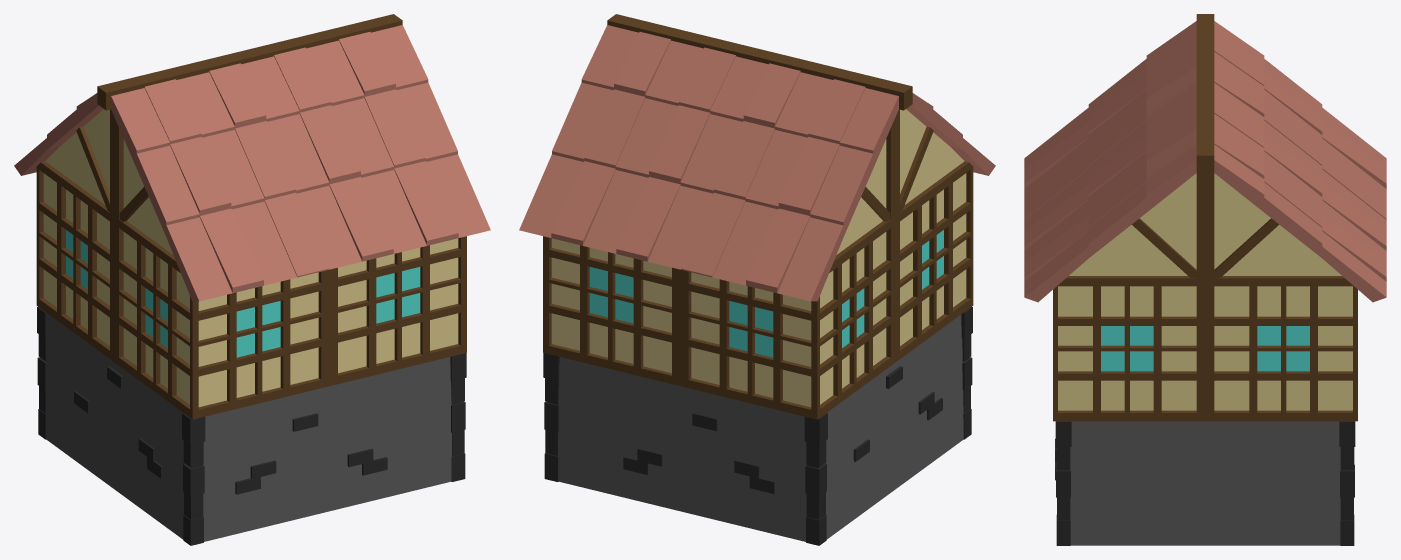
Rendered from house_001.fbx.
3 renders of one model, left to right at view 1: azimuth 30°, elevation 25°; view 2: azimuth 150°, elevation 25°; view 3: azimuth 270°, elevation 25°, orthographic. The views are drawn at different scales.
Parts seen in each view (by area): view 1: Plane.001; view 2: Plane.001; view 3: Plane.001.
Part boxes in pixels (x1,y1,x2,y2): Plane.001: [14, 14, 490, 545]; Plane.001: [519, 14, 995, 545]; Plane.001: [1024, 14, 1386, 545].
Bounding box in the file's own units: 2.12 × 2.76 × 2.3.
